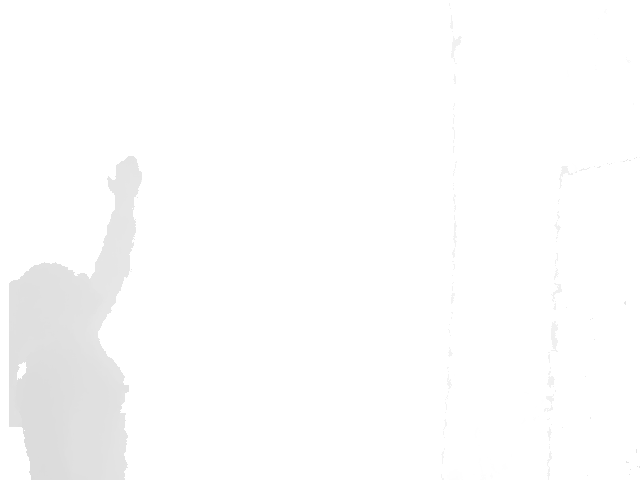hand: (105, 153, 145, 208)
head: (7, 261, 94, 338)
person: (8, 154, 144, 480)
